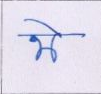e_matra: (24, 17, 62, 35)
